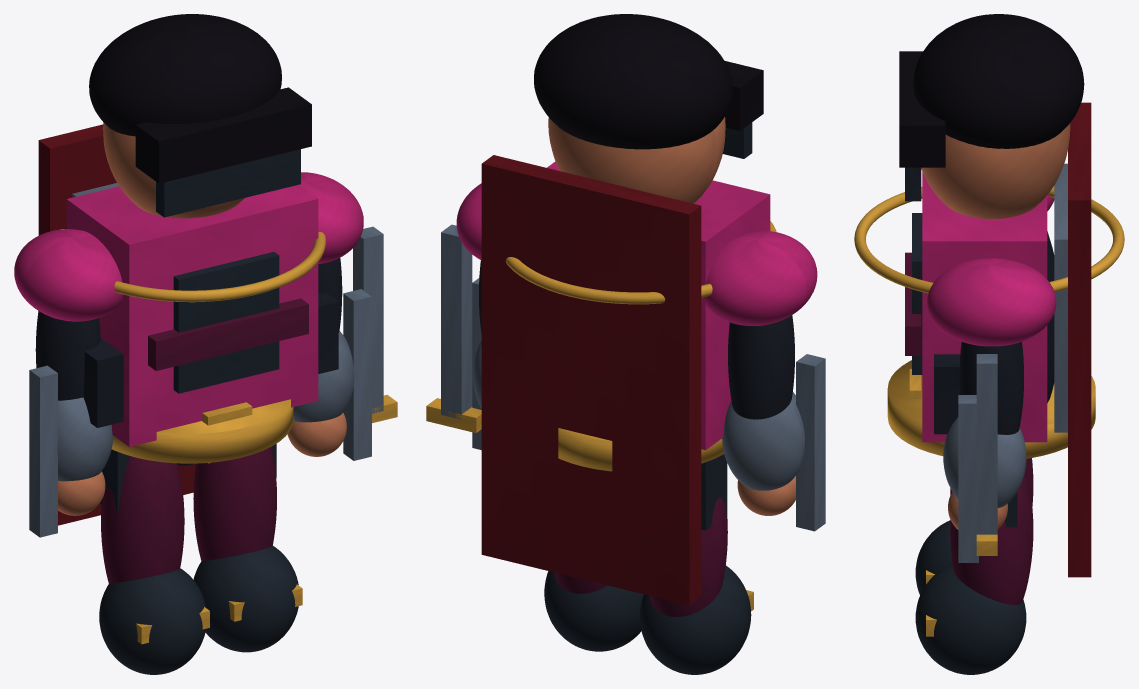
The model's file is Advanced.glb.
3 renders of one model, left to right at view 1: azimuth 30°, elevation 25°; view 2: azimuth 150°, elevation 25°; view 3: azimuth 270°, elevation 25°, orthographic. The views are drawn at different scales.
Visible parts, largest first — view 1: ChestPlate, Hair, HairFringe, Leg, Boot, Boot.001, ChestInset, Leg.001, Shoulder, Cape, WaistGuard, TacticalHarness (+17 smaller); view 2: Cape, Hair, Shoulder, Head, ChestPlate, Boot, Arm, Dagger, Gauntlet, Boot.001, DualDagger, Leg (+10 smaller); view 3: Hair, ChestPlate, Cape, Shoulder.001, Head, Boot.001, Leg.001, Dagger, WaistGuard, HairFringe, BackArmor, Arm.001 (+11 smaller).
Boxes of the visible parts, x1,y1,x2,y2 form: ChestPlate: [66, 184, 318, 446]; Hair: [89, 14, 281, 136]; HairFringe: [135, 87, 311, 183]; Leg: [101, 456, 184, 583]; Boot: [99, 568, 205, 674]; Boot.001: [193, 546, 298, 652]; ChestInset: [173, 252, 279, 393]; Leg.001: [193, 447, 276, 561]; Shoulder: [14, 229, 122, 321]; Cape: [38, 124, 195, 525]; WaistGuard: [111, 399, 293, 463]; TacticalHarness: [148, 298, 308, 370]; Cape: [481, 155, 701, 605]; Hair: [534, 14, 732, 149]; Shoulder: [703, 230, 817, 325]; Head: [548, 117, 725, 203]; ChestPlate: [547, 161, 770, 450]; Boot: [639, 565, 751, 674]; Arm: [728, 315, 794, 419]; Dagger: [441, 224, 472, 419]; Gauntlet: [722, 392, 804, 490]; Boot.001: [544, 571, 643, 651]; DualDagger: [796, 354, 825, 531]; Leg: [649, 497, 727, 616]; Hair: [913, 14, 1084, 148]; ChestPlate: [922, 172, 1047, 442]; Cape: [1068, 102, 1091, 577]; Shoulder.001: [927, 258, 1056, 346]; Head: [921, 123, 1070, 219]; Boot.001: [915, 564, 1026, 674]; Leg.001: [950, 469, 1033, 604]; Dagger: [976, 354, 997, 534]; WaistGuard: [887, 360, 1095, 458]; HairFringe: [899, 51, 945, 167]; BackArmor: [1054, 163, 1067, 432]; Arm.001: [959, 341, 1024, 434].
Size of the model in its own units: 1.82 by 2.96 by 1.17.
Materials: 11 (9 with a texture image).
